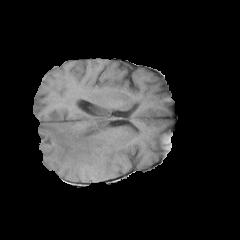glioma: (39, 120, 125, 181)
